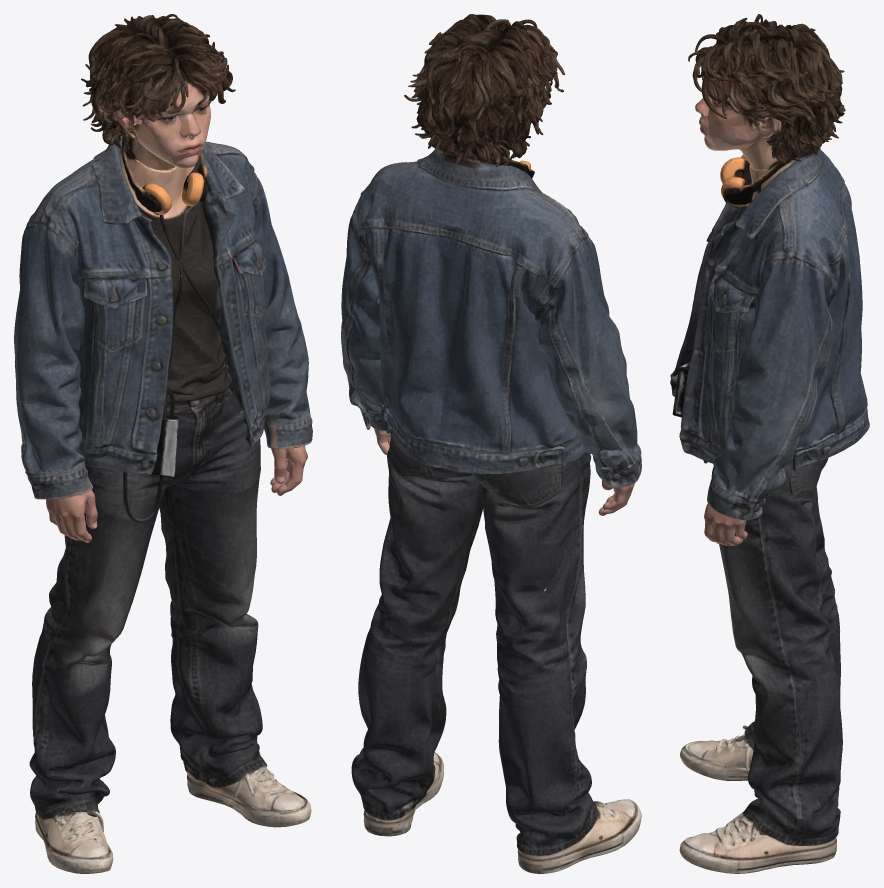
File: mjiumgg0e.glb
3 renders of one model, left to right at view 1: azimuth 30°, elevation 25°; view 2: azimuth 150°, elevation 25°; view 3: azimuth 270°, elevation 25°, orthographic.
Bounding box in the file's own units: 0.6992 × 1.9 × 0.4347.
1 material, 1 textured.
